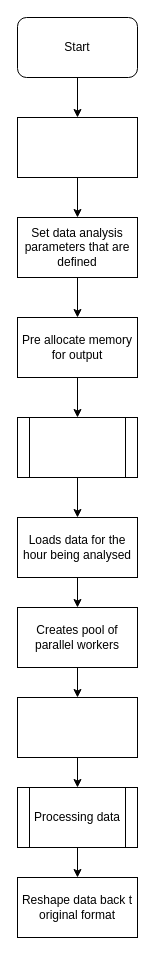
The diagram is 155 pixels wide and 955 high, and some of its shapes have lost their labels. Here are the shapes that lost their labels. From the top down, the centre of each, then its label:
[77,147]: Set the data file and load basic data
[77,447]: Loop where data is processed
[77,727]: Sets up our wait bar
